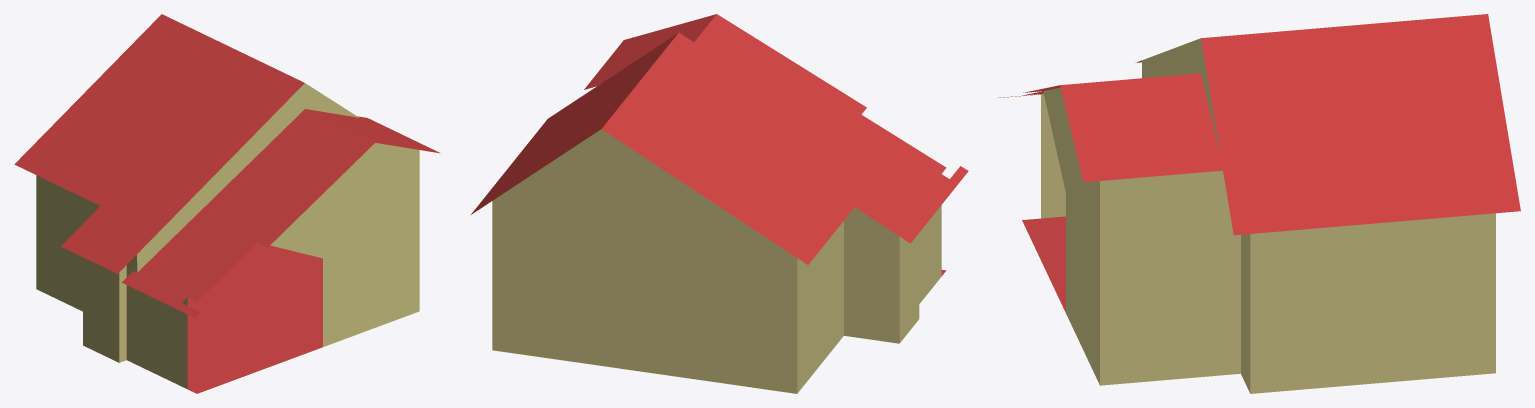
3 views of the same model, side by side, from view 1: azimuth 30°, elevation 25°; view 2: azimuth 150°, elevation 25°; view 3: azimuth 270°, elevation 25° (orthographic). The views are drawn at different scales.
Bounding box in the file's own units: 24.38 × 24.71 × 15.44.
